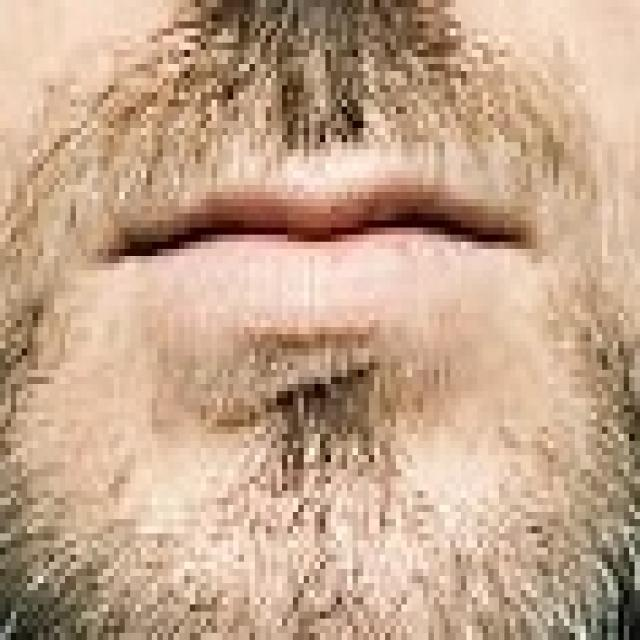closed-mouth: (92, 164, 534, 310)
